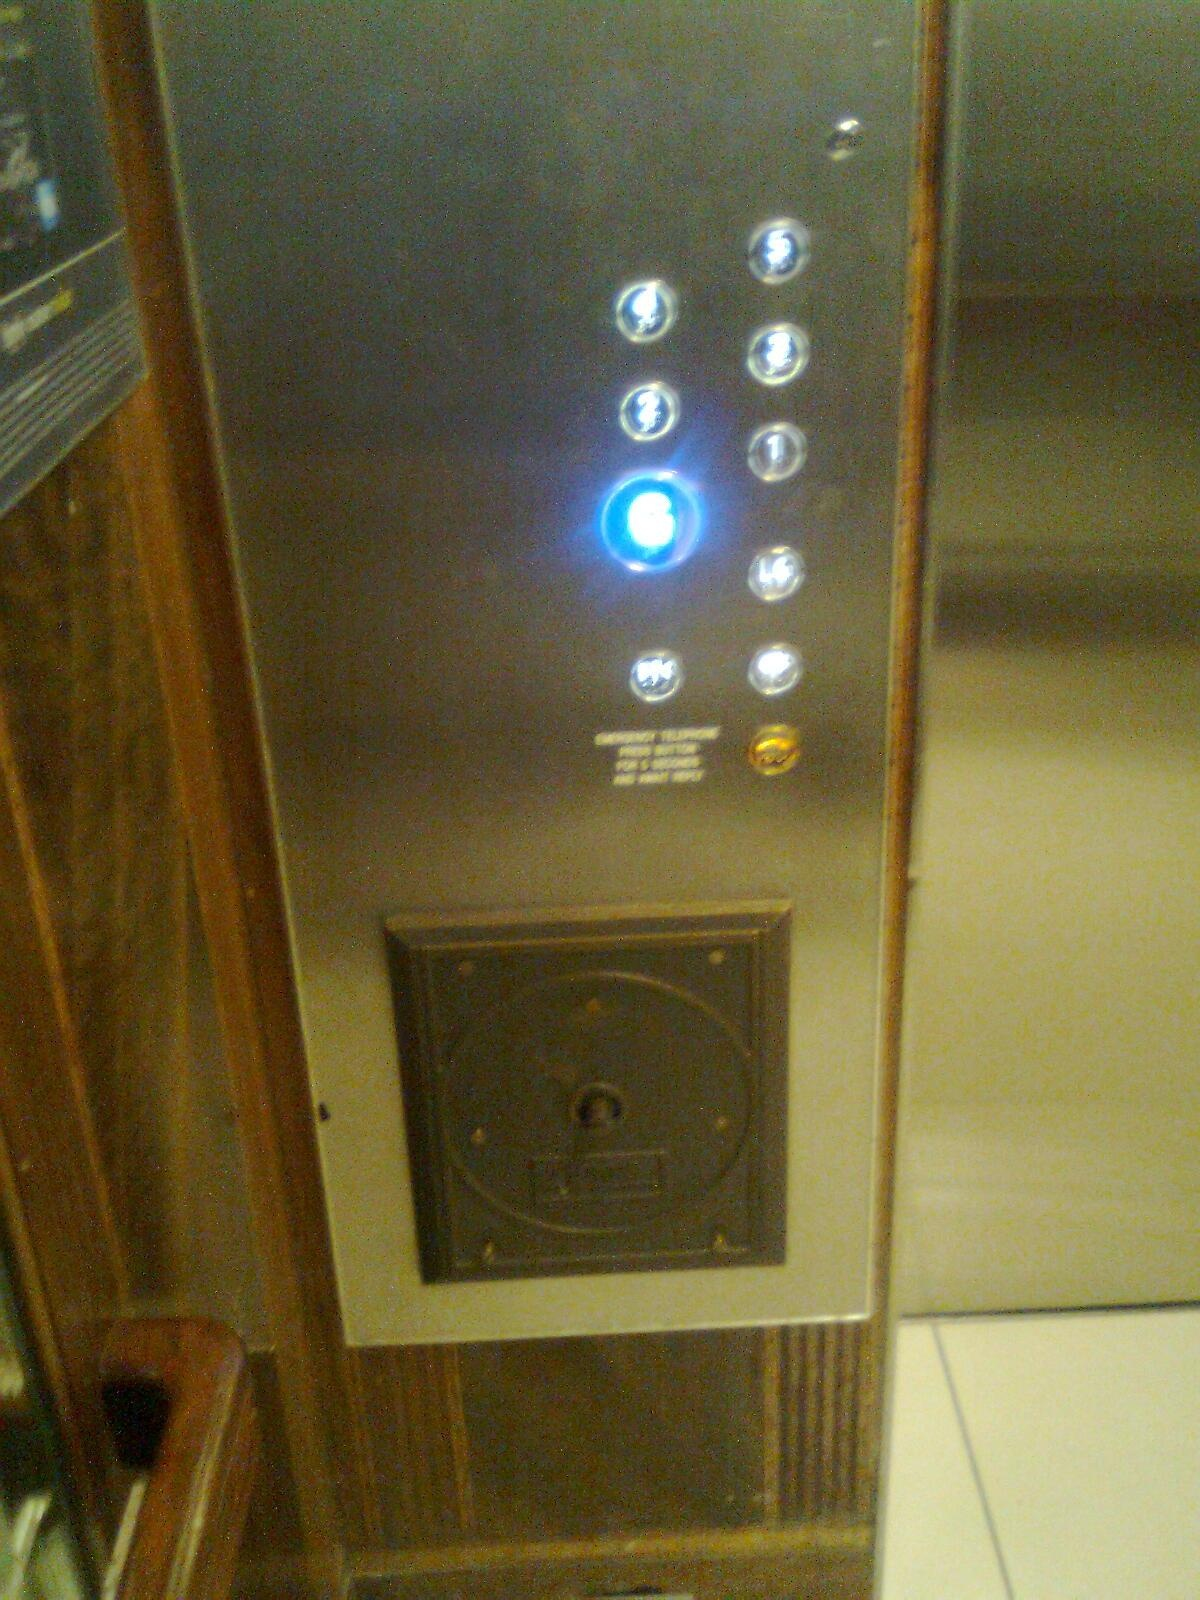1: (734, 413, 812, 496)
2: (609, 367, 688, 451)
LG: (739, 533, 812, 611)
blur: (592, 465, 710, 580), (605, 271, 684, 355), (736, 315, 816, 399), (740, 210, 819, 294), (737, 632, 811, 711), (734, 716, 807, 794)
close: (619, 636, 692, 714)
